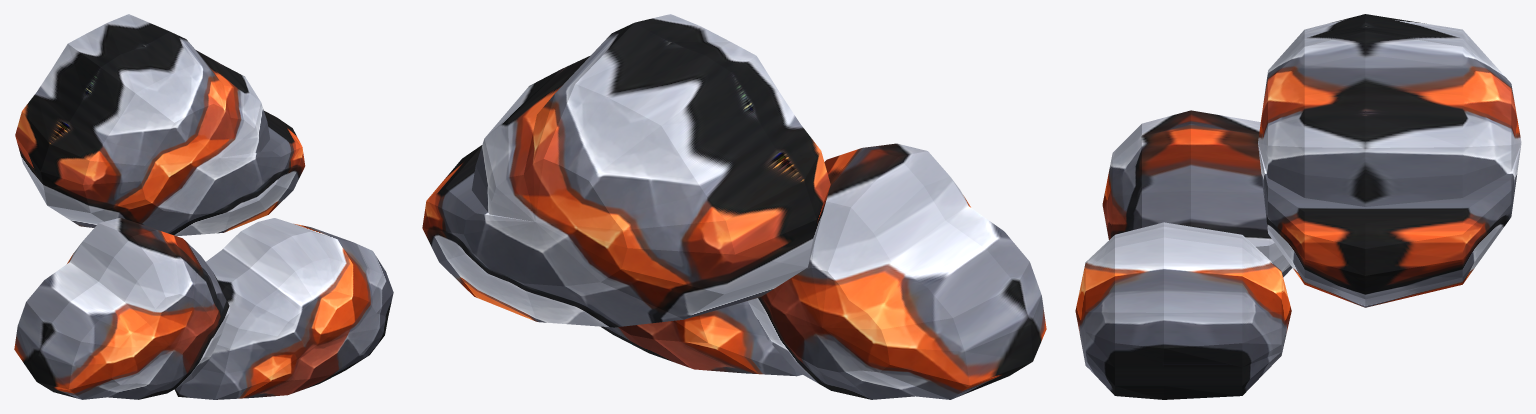
Rendered from item-metal.glb.
The picture shows the model from 3 angles, left to right: view 1: azimuth 30°, elevation 25°; view 2: azimuth 150°, elevation 25°; view 3: azimuth 270°, elevation 25°; orthographic projection. The views are drawn at different scales.
Parts seen in each view (by area): view 1: traced mineral chunk 1, traced mineral chunk 2, traced mineral chunk 3; view 2: traced mineral chunk 1, traced mineral chunk 2, traced mineral chunk 3; view 3: traced mineral chunk 1, traced mineral chunk 3, traced mineral chunk 2.
Boxes of the visible parts, box(x1,y1,x2,y2) form: traced mineral chunk 1: box(15, 14, 305, 236); traced mineral chunk 2: box(14, 217, 229, 399); traced mineral chunk 3: box(174, 218, 393, 399); traced mineral chunk 1: box(422, 14, 830, 327); traced mineral chunk 2: box(748, 143, 1046, 399); traced mineral chunk 3: box(601, 301, 802, 376); traced mineral chunk 1: box(1258, 14, 1521, 307); traced mineral chunk 3: box(1075, 222, 1291, 399); traced mineral chunk 2: box(1102, 110, 1292, 277).
Size of the model in its own units: 0.6731 by 0.5676 by 0.66.
1 material, 1 textured.
